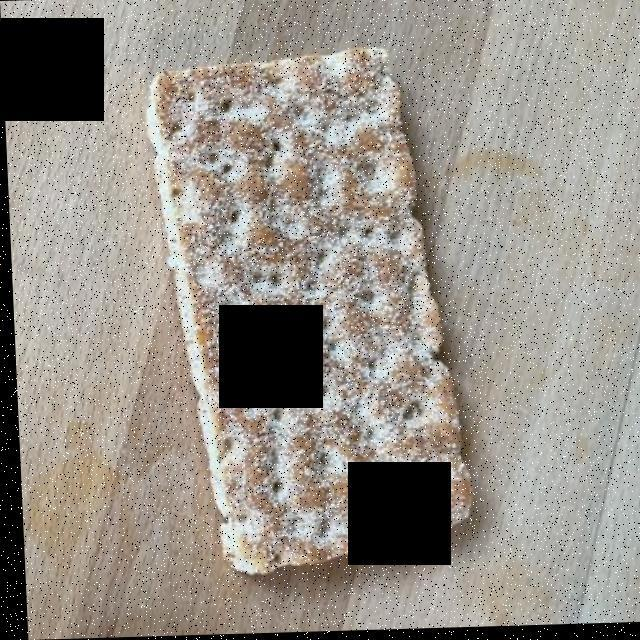bread: (150, 52, 463, 576)
